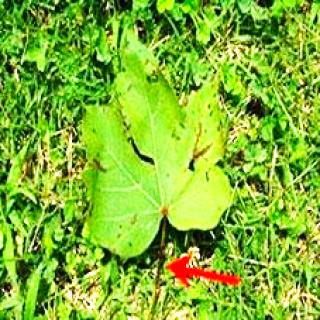blight: (77, 49, 229, 191)
